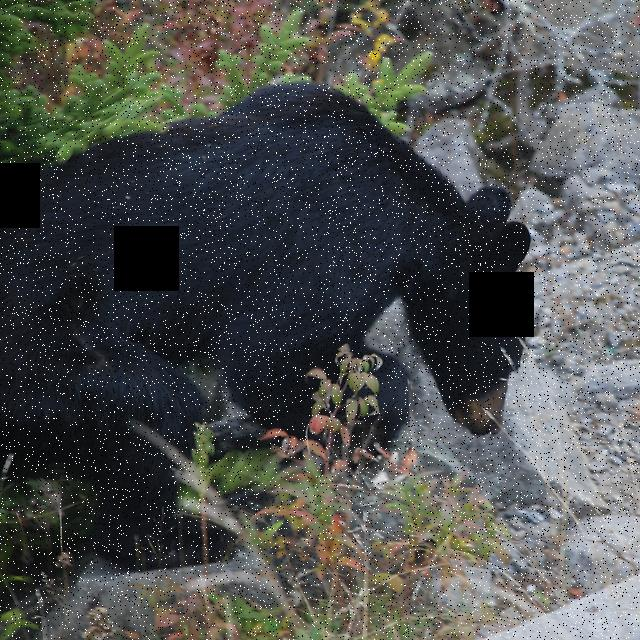Bear: (0, 81, 525, 580)
